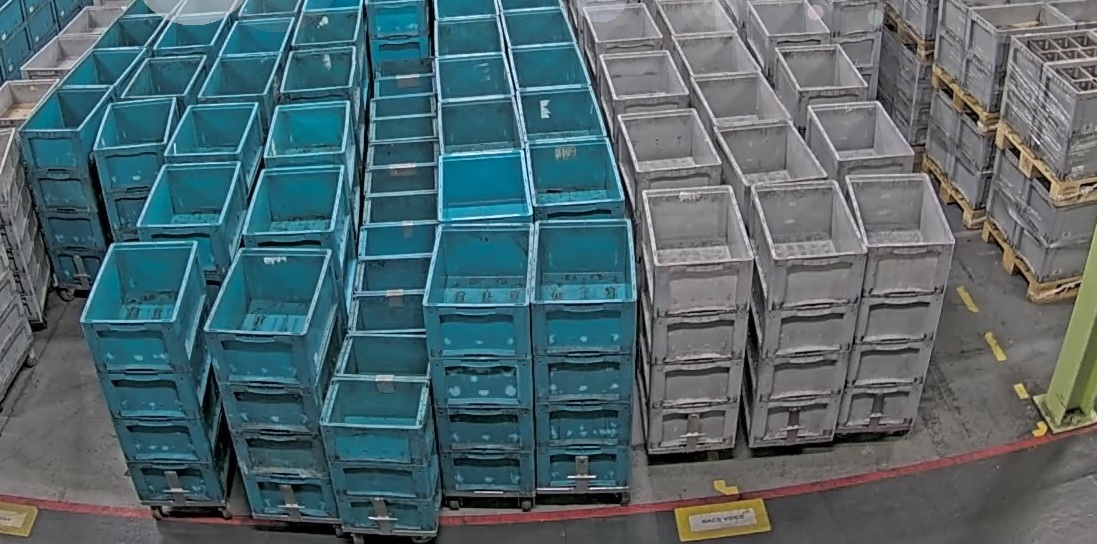4G: (744, 178, 870, 450), (834, 171, 957, 438), (641, 184, 756, 453)
B4: (78, 239, 233, 505), (203, 246, 345, 518), (420, 222, 534, 495), (527, 216, 639, 491), (92, 94, 179, 243), (472, 494, 475, 496)
B8: (317, 334, 440, 533)
